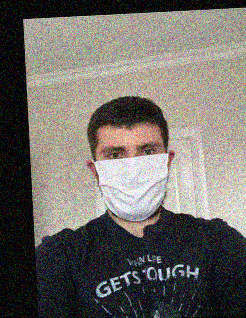with_mask: (94, 135, 170, 222)
